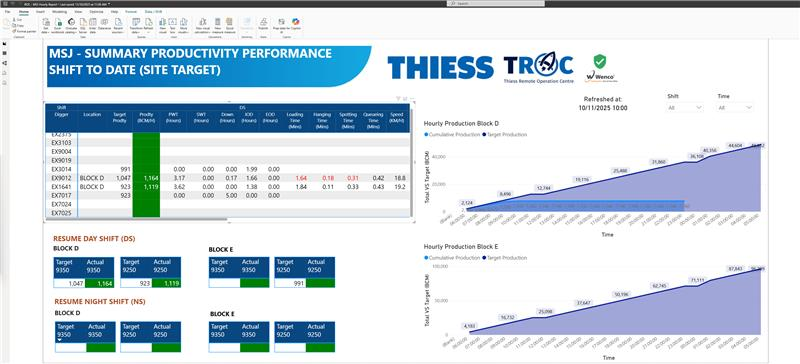

The dashboard page shown, as its layout file describes it:
{"tool":"powerbi","page":{"name":"1.1. SUMMARY PRODUCTIVITY DIGGER PERFORMANCE","canvas":[1900,850],"ordinal":0},"visuals":[{"type":"pivotTable","fields":{"Values":["Max(Thiess_Hourly_Performance.Location)","Sum(Taret_Site_Commercial.Target_Site)","Thiess_Hourly_Performance.PRODTY (BCM/H)","Sum(Thiess_Hourly_Performance.WT)","Sum(Thiess_Hourly_Performance.SWT)","Sum(Thiess_Hourly_Performance.DOWN)","Sum(Thiess_Hourly_Performance.IOD)","Sum(Thiess_Hourly_Performance.EOD)","Thiess_Hourly_Performance.LOADING_TIME (MINS)","Thiess_Hourly_Performance.HANGING_TIME (MINS)","Thiess_Hourly_Performance.SPOTTING_TIME (MINS)","Thiess_Hourly_Performance.QUEUEING_TIME (MINS)"],"Rows":["Bridge_Digger.Digger"],"Columns":["Bridge_Shift.ShiftIdent"]},"box":[0,165,975,318.3],"z":1000},{"type":"textbox","box":[10,10,790,118],"z":2000},{"type":"slicer","fields":{"Values":["Bridge_Shift.ShiftIdent"]},"box":[1623.3,138.3,118.3,70],"z":3000},{"type":"slicer","fields":{"Values":["Bridge_Time.Time"]},"box":[1755,138.3,118.3,70],"z":4000},{"type":"card","title":"Refreshed at:","fields":{"Values":["Max(Thiess_Hourly_Performance.Datetime)"]},"box":[1311.7,148.3,311.7,48.3],"z":5000},{"type":"areaChart","title":"Hourly Production Block D","fields":{"Category":["Bridge_Time.TimeF"],"Y":["Thiess_Hourly_Performance.Cumulative Production","Target_Production.TARGET PROD HOURLY"]},"box":[993.3,211.7,906.7,315],"z":6000},{"type":"areaChart","title":"Hourly Production Block E","fields":{"Category":["Bridge_Time.TimeF"],"Y":["Thiess_Hourly_Performance.Cumulative Production","Target_Production.TARGET PROD HOURLY"]},"box":[993.3,535,906.7,315],"z":7000},{"type":"textbox","box":[20.9,505.9,257.1,37.1],"z":8000},{"type":"tableEx","fields":{"Values":["Avg(Taret_Site_Commercial.Target_Site)","Thiess_Hourly_Performance.PRODTY (BCM/H)"]},"box":[20.9,567.3,172.9,105.7],"z":9000},{"type":"textbox","box":[24.3,670.9,311.7,38.3],"z":10000},{"type":"textbox","box":[20.9,533.8,101.2,33.8],"z":11000},{"type":"textbox","box":[428.8,536.8,242.9,35.7],"z":12000},{"type":"textbox","box":[24.8,702.8,101.2,33.8],"z":13000},{"type":"textbox","box":[432.6,705.8,242.9,35.7],"z":14000},{"type":"tableEx","fields":{"Values":["Avg(Taret_Site_Commercial.Target_Site)","Thiess_Hourly_Performance.PRODTY (BCM/H)"]},"box":[196.7,566.7,171.7,106.7],"z":15000},{"type":"tableEx","fields":{"Values":["Avg(Taret_Site_Commercial.Target_Site)","Thiess_Hourly_Performance.PRODTY (BCM/H)"]},"box":[25,736.7,171.7,106.7],"z":16000},{"type":"tableEx","fields":{"Values":["Avg(Taret_Site_Commercial.Target_Site)","Thiess_Hourly_Performance.PRODTY (BCM/H)"]},"box":[196.7,736.7,171.7,106.7],"z":17000},{"type":"tableEx","fields":{"Values":["Avg(Taret_Site_Commercial.Target_Site)","Thiess_Hourly_Performance.PRODTY (BCM/H)"]},"box":[428.3,566.7,171.7,106.7],"z":18000},{"type":"tableEx","fields":{"Values":["Avg(Taret_Site_Commercial.Target_Site)","Thiess_Hourly_Performance.PRODTY (BCM/H)"]},"box":[600,566.7,171.7,106.7],"z":19000},{"type":"tableEx","fields":{"Values":["Avg(Taret_Site_Commercial.Target_Site)","Thiess_Hourly_Performance.PRODTY (BCM/H)"]},"box":[428.3,736.7,171.7,106.7],"z":20000},{"type":"tableEx","fields":{"Values":["Avg(Taret_Site_Commercial.Target_Site)","Thiess_Hourly_Performance.PRODTY (BCM/H)"]},"box":[600,736.7,171.7,106.7],"z":21000}]}

Visuals, with their boxes on the page's 1900x850 design canvas (x1, y1, x2, y2). These are canvas units, not pixel positions in the 800x364 screenshot, which may show the page scaled, cropped or inside an application window:
pivotTable - Max(Thiess_Hourly_Performance.Location) x Sum(Taret_Site_Commercial.Target_Site): [x1=0, y1=165, x2=975, y2=483]
textbox: [x1=10, y1=10, x2=800, y2=128]
slicer - Bridge_Shift.ShiftIdent: [x1=1623, y1=138, x2=1742, y2=208]
slicer - Bridge_Time.Time: [x1=1755, y1=138, x2=1873, y2=208]
"Refreshed at:" card: [x1=1312, y1=148, x2=1623, y2=197]
"Hourly Production Block D" areaChart: [x1=993, y1=212, x2=1900, y2=527]
"Hourly Production Block E" areaChart: [x1=993, y1=535, x2=1900, y2=850]
textbox: [x1=21, y1=506, x2=278, y2=543]
tableEx - Avg(Taret_Site_Commercial.Target_Site) x Thiess_Hourly_Performance.PRODTY (BCM/H): [x1=21, y1=567, x2=194, y2=673]
textbox: [x1=24, y1=671, x2=336, y2=709]
textbox: [x1=21, y1=534, x2=122, y2=568]
textbox: [x1=429, y1=537, x2=672, y2=572]
textbox: [x1=25, y1=703, x2=126, y2=737]
textbox: [x1=433, y1=706, x2=676, y2=742]
tableEx - Avg(Taret_Site_Commercial.Target_Site) x Thiess_Hourly_Performance.PRODTY (BCM/H): [x1=197, y1=567, x2=368, y2=673]
tableEx - Avg(Taret_Site_Commercial.Target_Site) x Thiess_Hourly_Performance.PRODTY (BCM/H): [x1=25, y1=737, x2=197, y2=843]
tableEx - Avg(Taret_Site_Commercial.Target_Site) x Thiess_Hourly_Performance.PRODTY (BCM/H): [x1=197, y1=737, x2=368, y2=843]
tableEx - Avg(Taret_Site_Commercial.Target_Site) x Thiess_Hourly_Performance.PRODTY (BCM/H): [x1=428, y1=567, x2=600, y2=673]
tableEx - Avg(Taret_Site_Commercial.Target_Site) x Thiess_Hourly_Performance.PRODTY (BCM/H): [x1=600, y1=567, x2=772, y2=673]
tableEx - Avg(Taret_Site_Commercial.Target_Site) x Thiess_Hourly_Performance.PRODTY (BCM/H): [x1=428, y1=737, x2=600, y2=843]
tableEx - Avg(Taret_Site_Commercial.Target_Site) x Thiess_Hourly_Performance.PRODTY (BCM/H): [x1=600, y1=737, x2=772, y2=843]
